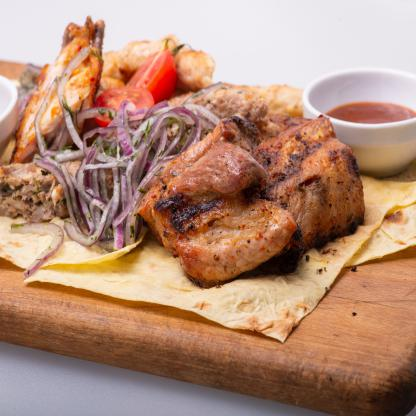Carne: (151, 123, 294, 269), (247, 115, 360, 233), (180, 87, 305, 122)
